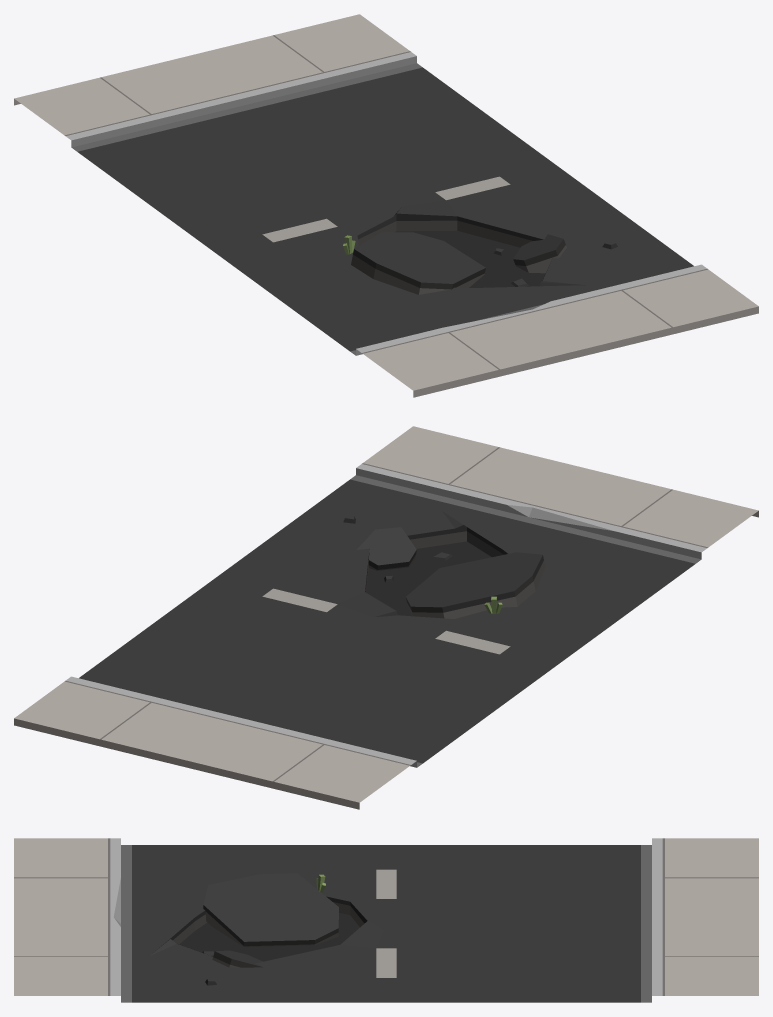
Rendered from SA_Env_RoadStraight_Damaged_05.fbx.
3 views of the same model, one above another, from view 1: azimuth 30°, elevation 25°; view 2: azimuth 150°, elevation 25°; view 3: azimuth 270°, elevation 25° (orthographic). The views are drawn at different scales.
Visible parts, largest first — view 1: SA_Env_RoadStraight_Damaged_05; view 2: SA_Env_RoadStraight_Damaged_05; view 3: SA_Env_RoadStraight_Damaged_05.
Boxes of the visible parts, x1,y1,x2,y2 form: SA_Env_RoadStraight_Damaged_05: (14, 14, 758, 397); SA_Env_RoadStraight_Damaged_05: (14, 426, 758, 809); SA_Env_RoadStraight_Damaged_05: (14, 838, 758, 1002).
Size of the model in its own units: 10 by 1.15 by 20.
Materials: 1 (1 with a texture image).
